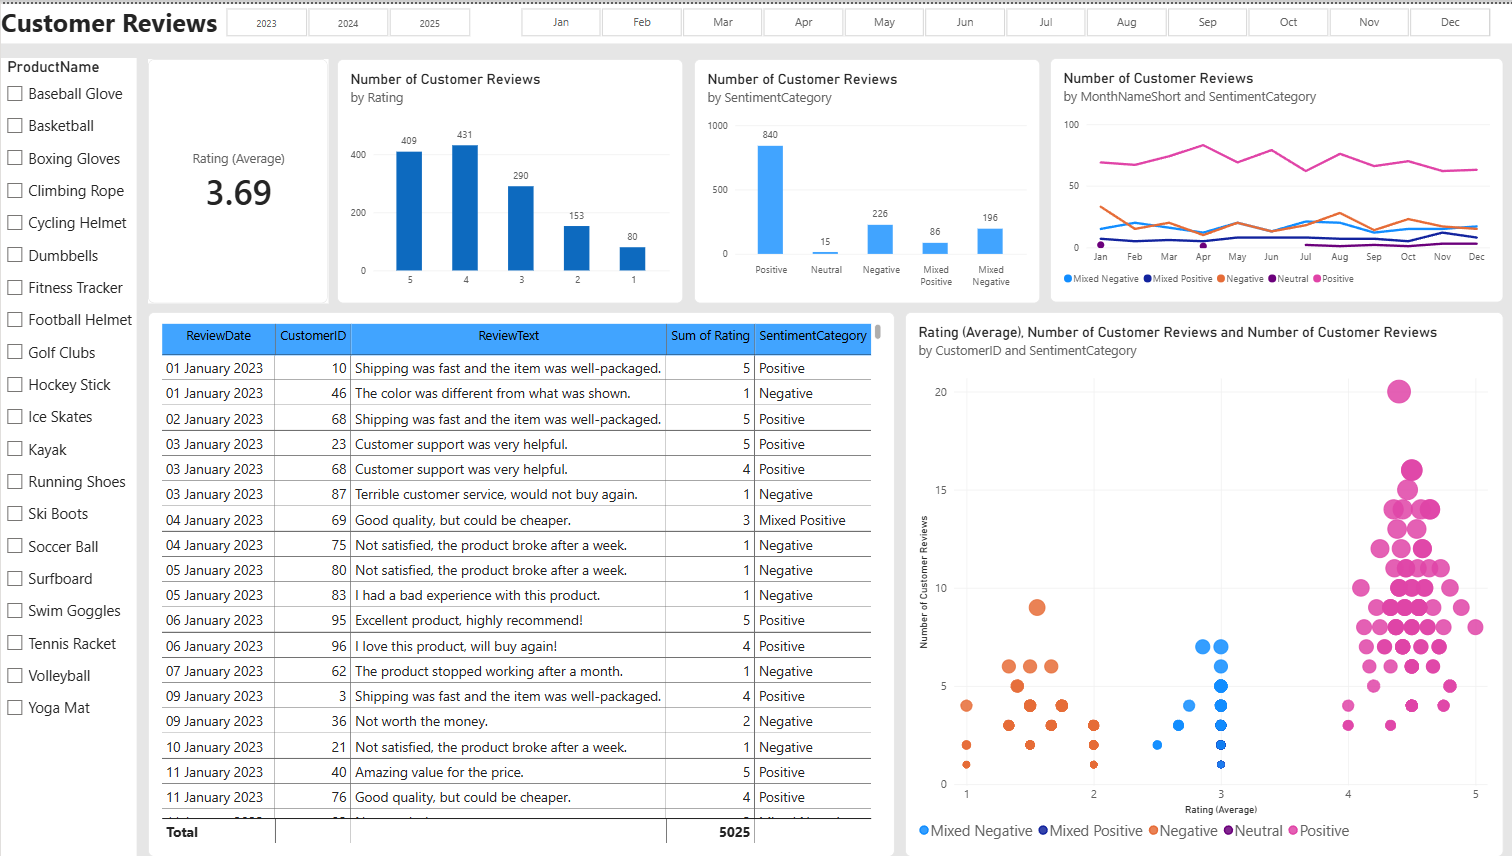

The dashboard page shown, as its layout file describes it:
{"tool":"powerbi","page":{"name":"Duplicate of Social Media Details ","canvas":[1920,1080],"ordinal":3},"visuals":[{"type":"textbox","box":[0,0,1920,50.5],"z":0},{"type":"slicer","fields":{"Values":["dim_products.ProductName"]},"box":[0,68.6,172.1,1011.8],"z":1000},{"type":"slicer","fields":{"Values":["Calendar.Year"]},"box":[265.3,4.2,348.7,39.4],"z":2000},{"type":"slicer","fields":{"Values":["Calendar.MonthNameShort"]},"box":[639.1,3.9,1267.9,38.8],"z":4000},{"type":"clusteredColumnChart","fields":{"Category":["fact_customer_reviews_with_sentiment.Rating"],"Y":["_Calculations (2).Number of Customer Reviews"]},"box":[426.7,70.2,439.3,310.2],"z":5000},{"type":"cardVisual","fields":{"Data":["_Calculations (2).Rating (Average)"]},"box":[186.7,70.2,228.8,310.2],"z":7000},{"type":"clusteredColumnChart","fields":{"Category":["fact_customer_reviews_with_sentiment.SentimentCategory"],"Y":["_Calculations (2).Number of Customer Reviews"]},"box":[878.6,70.2,439.3,310.2],"z":7001},{"type":"lineChart","fields":{"Category":["Calendar.MonthNameShort"],"Series":["fact_customer_reviews_with_sentiment.SentimentCategory"],"Y":["_Calculations (2).Number of Customer Reviews"]},"box":[1330.5,68.8,575.4,310.2],"z":7002},{"type":"tableEx","fields":{"Values":["facr_customer_reviews.ReviewDate","facr_customer_reviews.CustomerID","facr_customer_reviews.ReviewText","Sum(fact_customer_reviews_with_sentiment.Rating)","fact_customer_reviews_with_sentiment.SentimentCategory"]},"box":[186.7,390.2,947.4,690.5],"z":7003},{"type":"scatterChart","fields":{"Category":["facr_customer_reviews.CustomerID"],"Series":["fact_customer_reviews_with_sentiment.SentimentCategory"],"Size":["_Calculations (2).Number of Customer Reviews"],"X":["_Calculations (2).Rating (Average)"],"Y":["_Calculations (2).Number of Customer Reviews"]},"box":[1146.7,390.2,759.3,690.5],"z":7004}]}

Visuals, with their boxes in screenshot pixels (x1, y1, x2, y2), scaled from the page's 1920x1080 canvas onto the 1512x856 screenshot:
textbox: bbox=(0, 0, 1511, 40)
slicer - dim_products.ProductName: bbox=(0, 54, 136, 855)
slicer - Calendar.Year: bbox=(209, 3, 484, 35)
slicer - Calendar.MonthNameShort: bbox=(503, 3, 1502, 34)
clusteredColumnChart - fact_customer_reviews_with_sentiment.Rating x _Calculations (2).Number of Customer Reviews: bbox=(336, 56, 682, 302)
cardVisual - _Calculations (2).Rating (Average): bbox=(147, 56, 327, 302)
clusteredColumnChart - fact_customer_reviews_with_sentiment.SentimentCategory x _Calculations (2).Number of Customer Reviews: bbox=(692, 56, 1038, 302)
lineChart - Calendar.MonthNameShort x fact_customer_reviews_with_sentiment.SentimentCategory: bbox=(1048, 55, 1501, 300)
tableEx - facr_customer_reviews.ReviewDate x facr_customer_reviews.CustomerID: bbox=(147, 309, 893, 855)
scatterChart - facr_customer_reviews.CustomerID x fact_customer_reviews_with_sentiment.SentimentCategory: bbox=(903, 309, 1501, 855)
